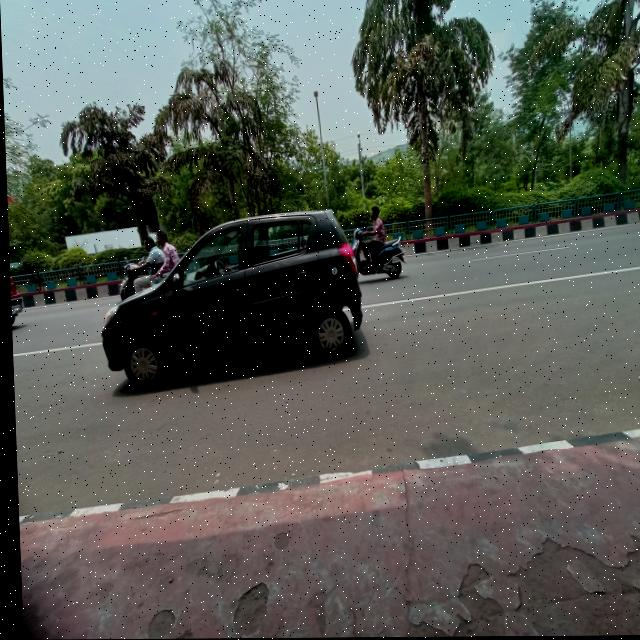bike: (351, 230, 404, 281)
car: (86, 200, 371, 394)
